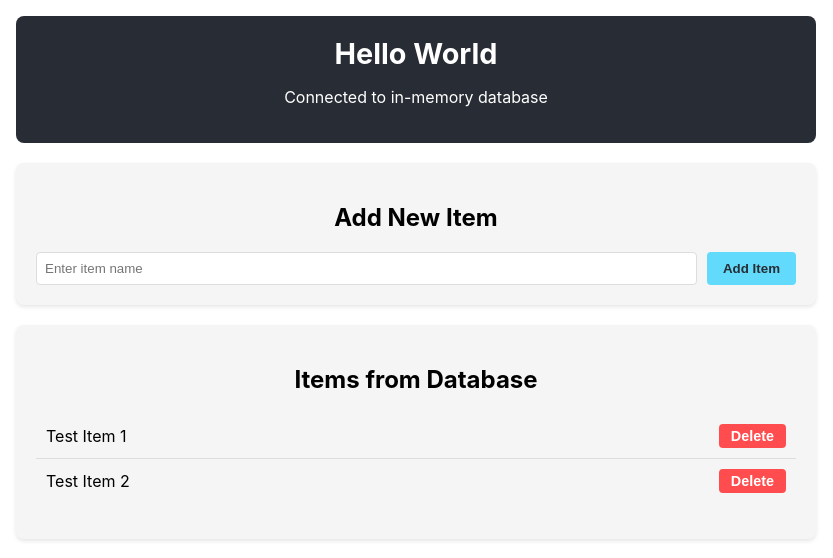
Test: App Component › handles delete API error
The width and height of the screenshot is (833, 558).
// Click the delete button
What coordinates should you click on to do the following:
click the button "Delete" in the row of "Test Item 1"
I would click on:
 (752, 436)
Its box is [719,424,786,448].
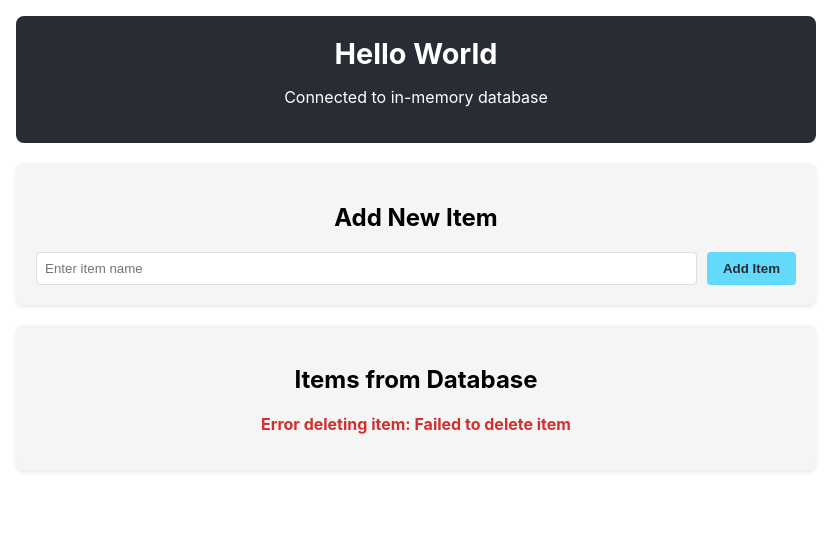
Check: the text "Error deleting item: Failed to delete item" is shown, box [261,414,571,434]
